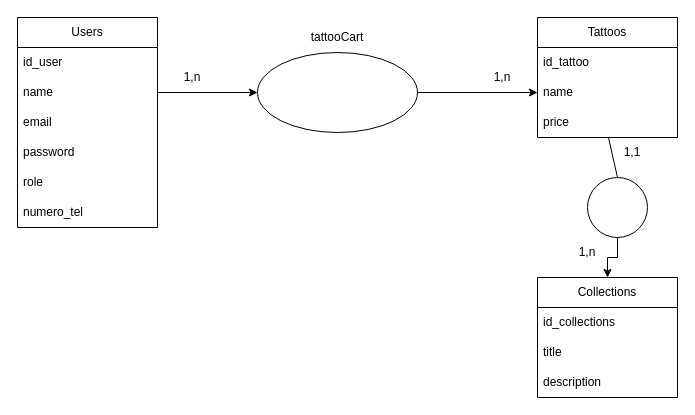
The diagram is 695 pixels wide and 415 high, and some of its shapes have lost their labels. The shapes that lost their labels are listed below. From the top down, each one's centre as x and y in pixels, then its label:
point 337,92: id_tattooCart
point 617,207: appartenir
